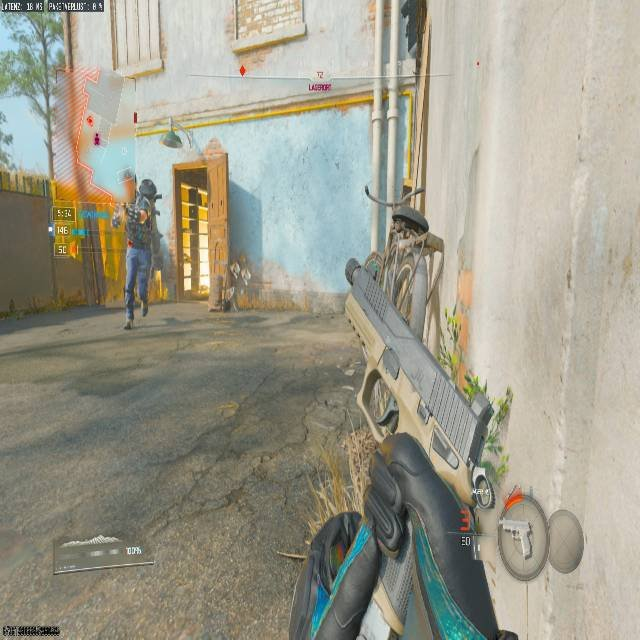head: (389, 211, 424, 238)
player: (117, 171, 161, 328)
